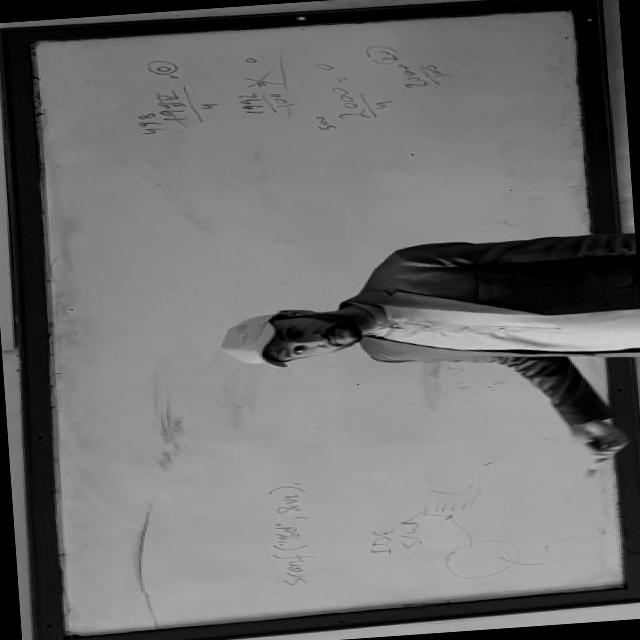Instructor: (196, 224, 640, 395)
White-board: (13, 0, 640, 640)
